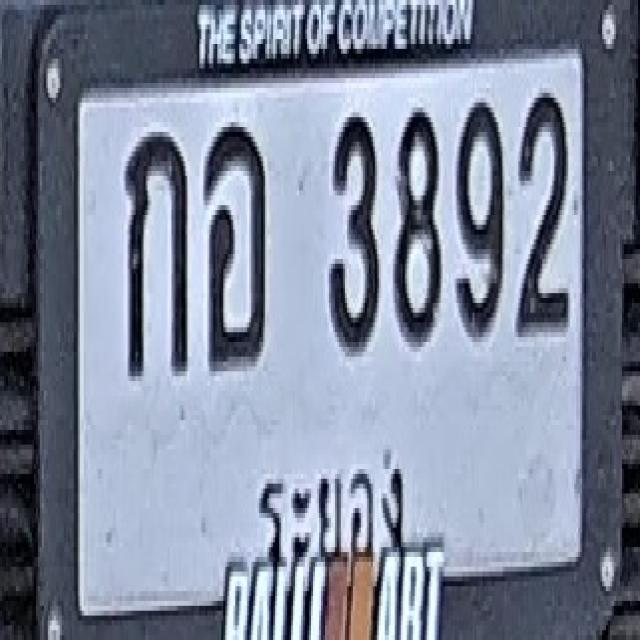2: (516, 90, 568, 330)
3: (329, 110, 379, 349)
8: (394, 107, 439, 342)
9: (457, 100, 502, 335)
A01: (125, 129, 187, 374)
A43: (203, 122, 266, 367)
RYG: (248, 437, 414, 579)
